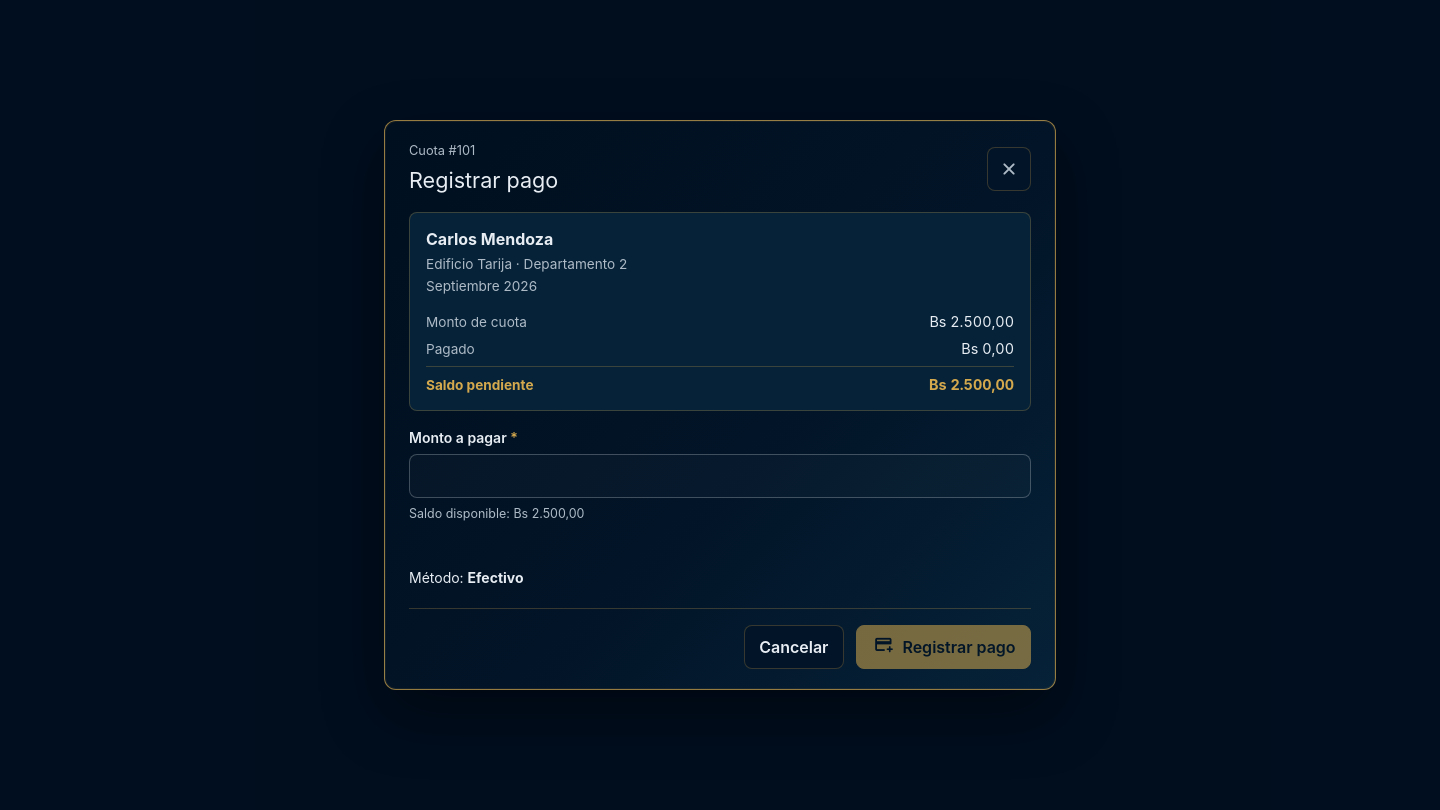
Test: RegistrarPagoModalComponent › shows a safe ProblemDetail for HTTP 400
In the field labelled "Monto a pagar *": {"x": 720, "y": 476} 409,454 -> 1031,498, type "500"
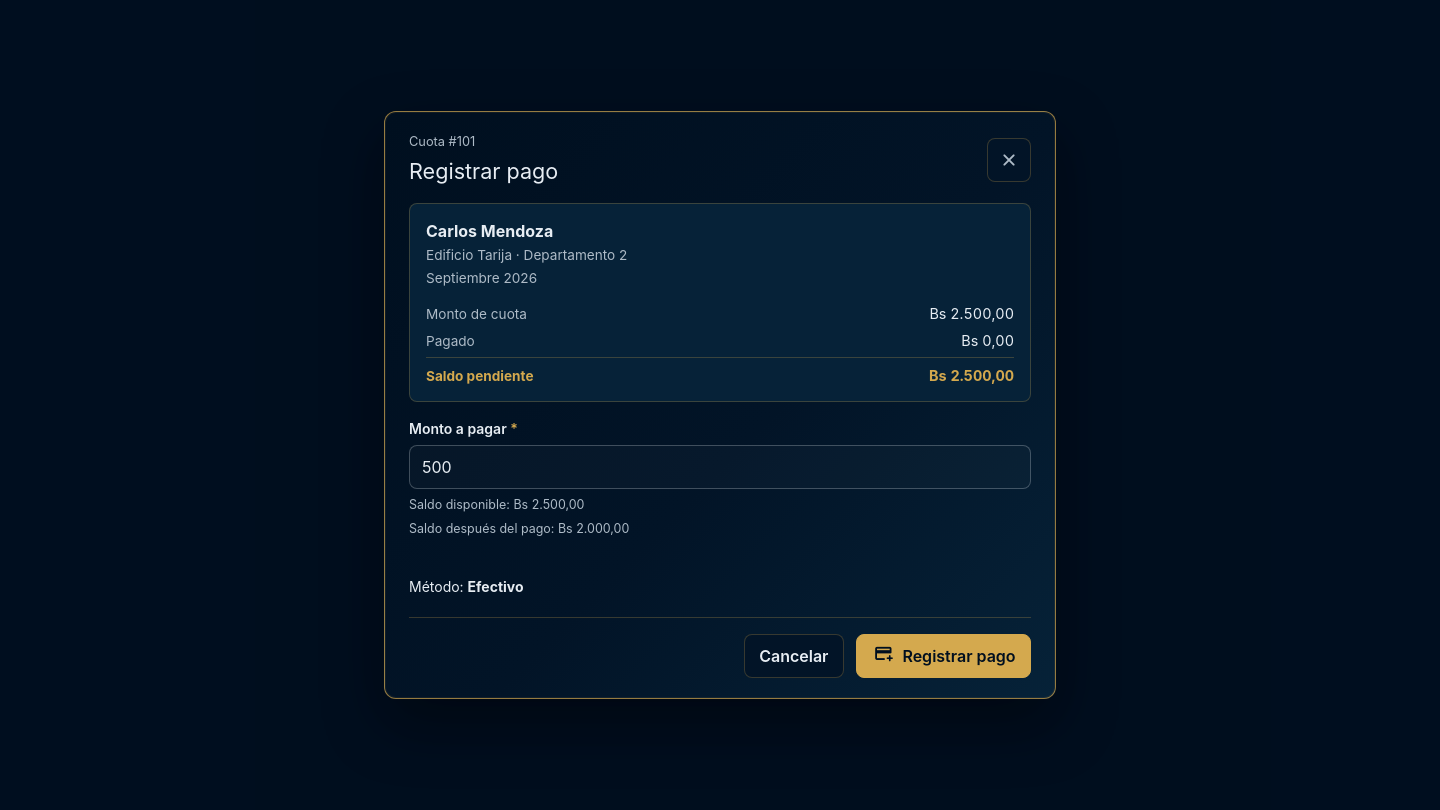
Click the button with id "register-payment-submit": {"x": 943, "y": 656} 856,634 -> 1031,678
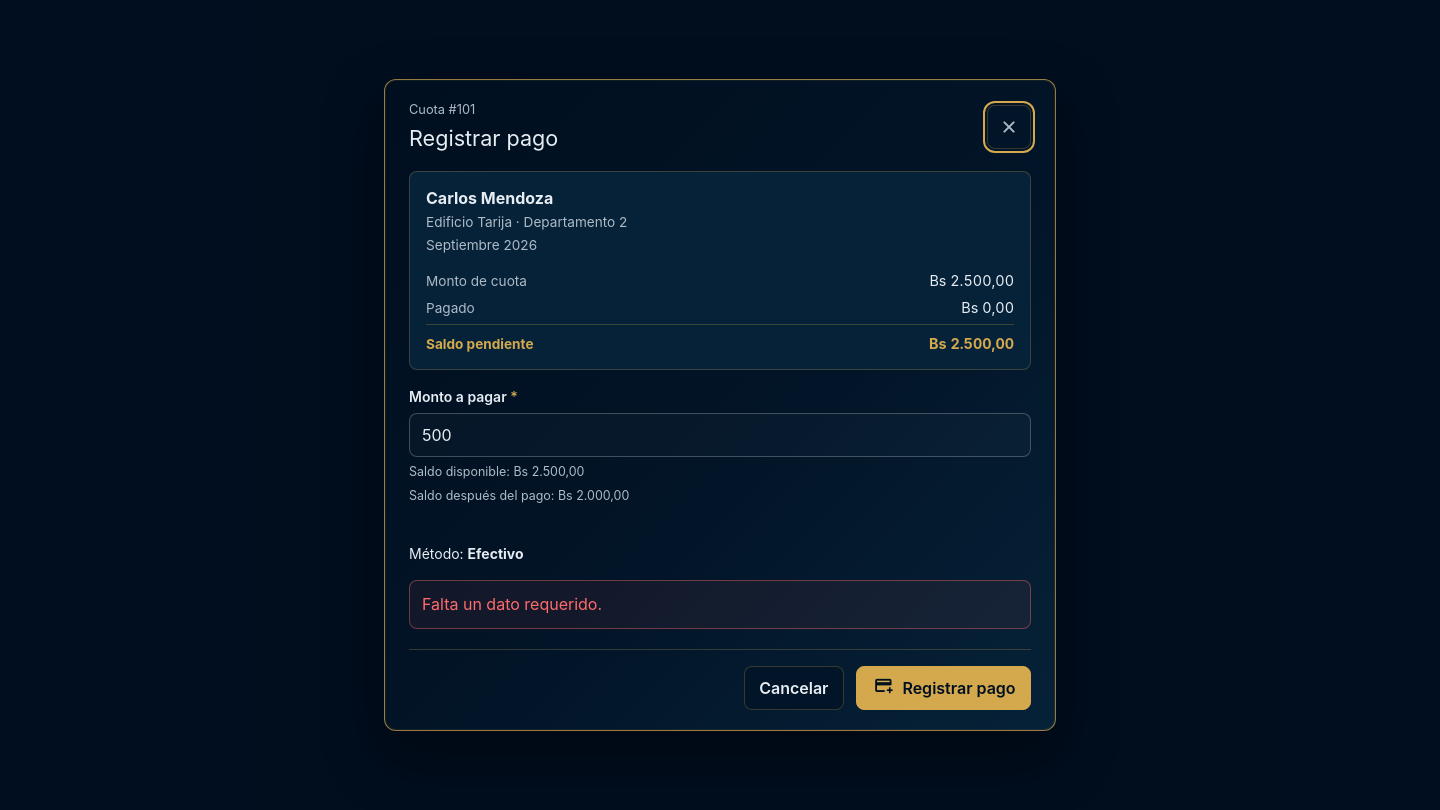
Expected: the text "Falta un dato requerido." is shown, 409,580 -> 1031,629
